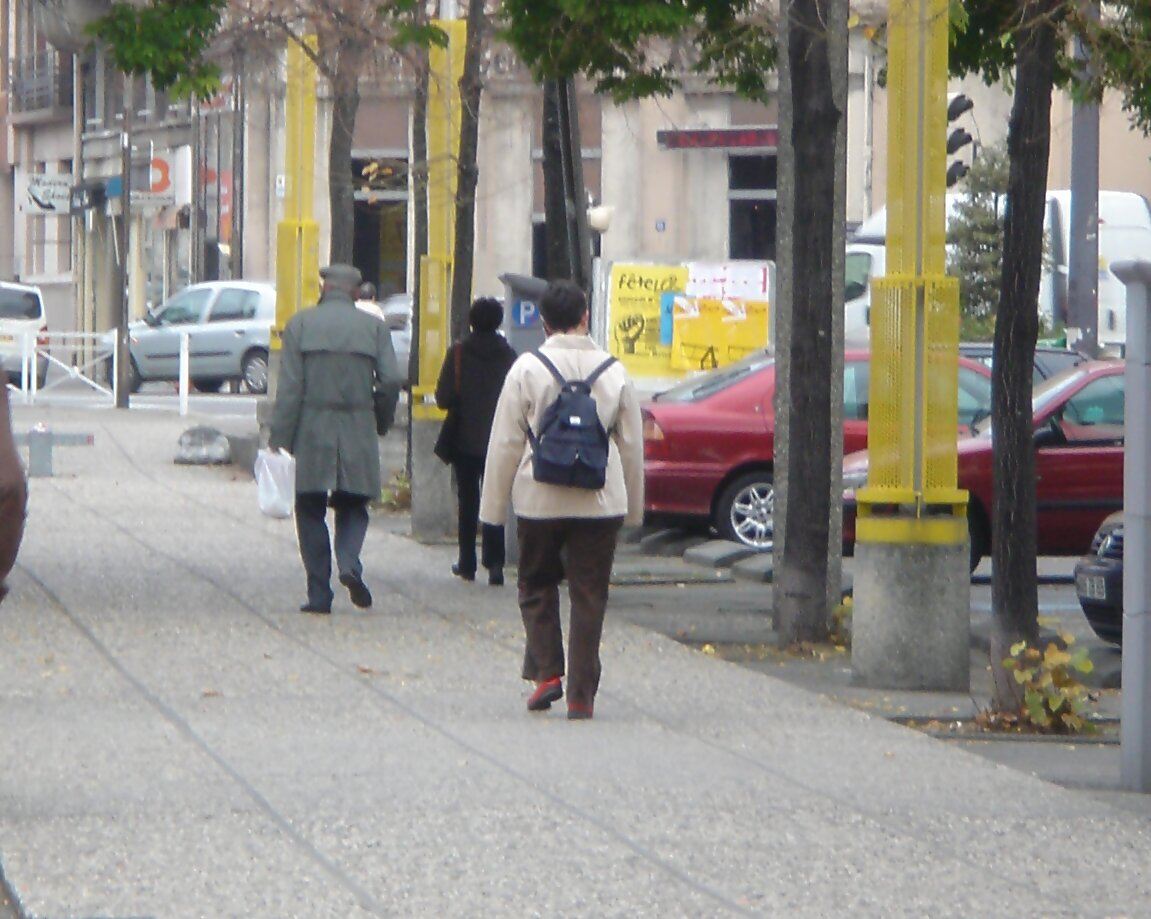person: (483, 283, 657, 723), (263, 255, 417, 613)
